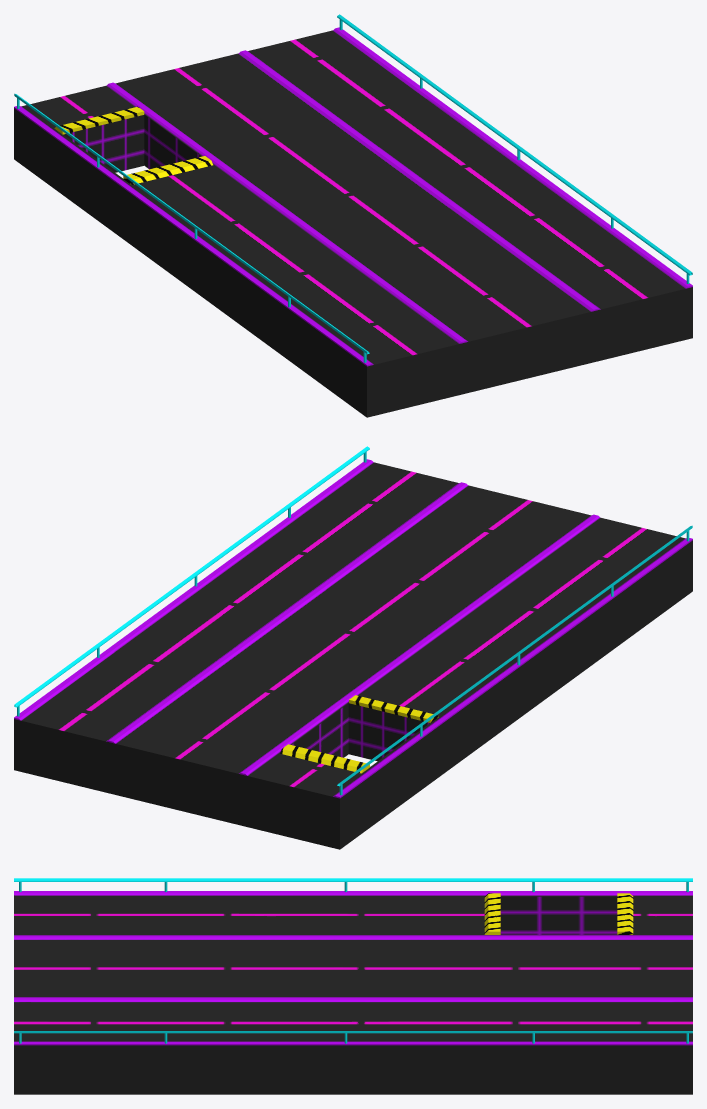
The model's file is RoadHole_005.fbx.
The picture shows the model from 3 angles, top to bottom: view 1: azimuth 30°, elevation 25°; view 2: azimuth 150°, elevation 25°; view 3: azimuth 270°, elevation 25°; orthographic projection. The views are drawn at different scales.
Visible parts, largest first — view 1: RoadHole_005; view 2: RoadHole_005; view 3: RoadHole_005.
Part boxes in pixels (bbox=[...]): RoadHole_005: bbox=[14, 14, 692, 417]; RoadHole_005: bbox=[14, 446, 692, 849]; RoadHole_005: bbox=[14, 878, 692, 1094].
Size of the model in its own units: 4 by 0.7696 by 7.5.
